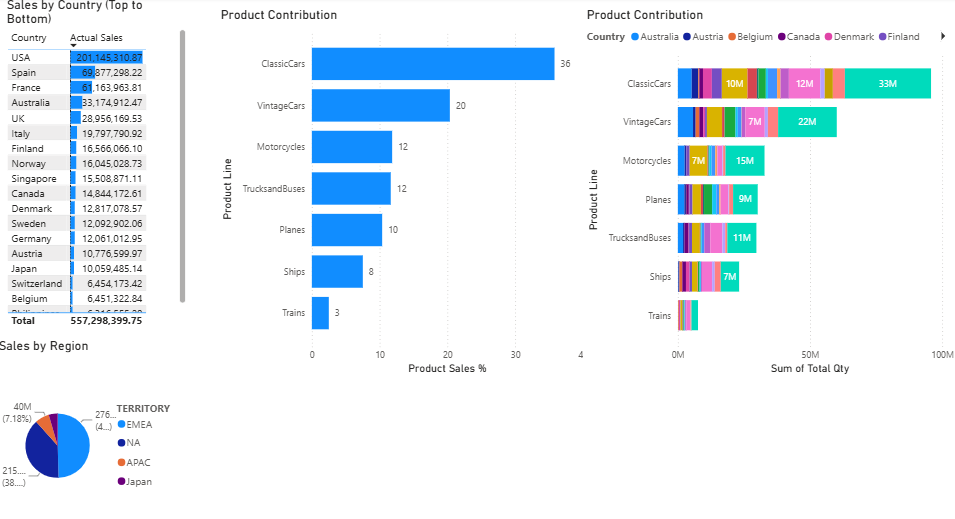

The page's visual inventory and layout, read from the dashboard file:
{"tool":"powerbi","page":{"name":"Product Geography","canvas":[1280,720],"ordinal":2},"visuals":[{"type":"tableEx","title":"Sales by Country (Top to Bottom)","fields":{"Values":["Sales_Data.Country","Sales Exec Target.Actual Sales"]},"box":[10,0,248.2,443.6],"z":0},{"type":"pieChart","title":"Sales by Region","fields":{"Category":["Regional Manager.TERRITORY"],"Y":["Sales Exec Target.Actual Sales"]},"box":[0,452.9,248.6,267.1],"z":1000},{"type":"barChart","title":"Product Contribution","fields":{"Category":["Sales_Data.Product Line"],"Y":["Sales_Data.Product Sales %"]},"box":[295,13.3,498.3,493.3],"z":2000},{"type":"barChart","title":"Product Contribution","fields":{"Category":["Sales_Data.Product Line"],"Series":["Sales_Data.Country"],"Y":["Sum(Sales_Data.Total Qty)"]},"box":[781.7,13.3,498.3,493.3],"z":3000}]}

Visuals, with their boxes on the page's 1280x720 design canvas (x1, y1, x2, y2). These are canvas units, not pixel positions in the 955x519 screenshot, which may show the page scaled, cropped or inside an application window:
"Sales by Country (Top to Bottom)" tableEx: BBox(10, 0, 258, 444)
"Sales by Region" pieChart: BBox(0, 453, 249, 720)
"Product Contribution" barChart: BBox(295, 13, 793, 507)
"Product Contribution" barChart: BBox(782, 13, 1280, 507)
